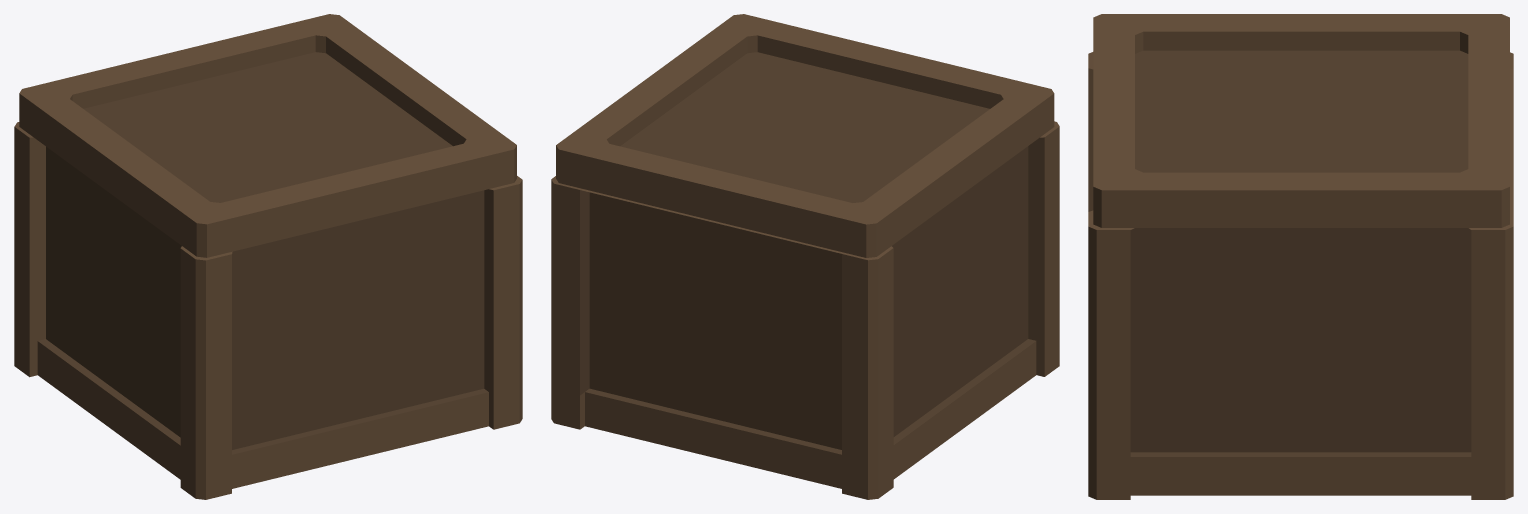
Rendered from IngredientBox 2.fbx.
The picture shows the model from 3 angles, left to right: view 1: azimuth 30°, elevation 25°; view 2: azimuth 150°, elevation 25°; view 3: azimuth 270°, elevation 25°; orthographic projection. The views are drawn at different scales.
Parts seen in each view (by area): view 1: IngredientBox; view 2: IngredientBox; view 3: IngredientBox.
Part boxes in pixels (x1=…): IngredientBox: x1=14, y1=14, x2=522, y2=499; IngredientBox: x1=551, y1=14, x2=1059, y2=499; IngredientBox: x1=1088, y1=14, x2=1513, y2=499.
Bounding box in the file's own units: 100 × 79.86 × 100.
